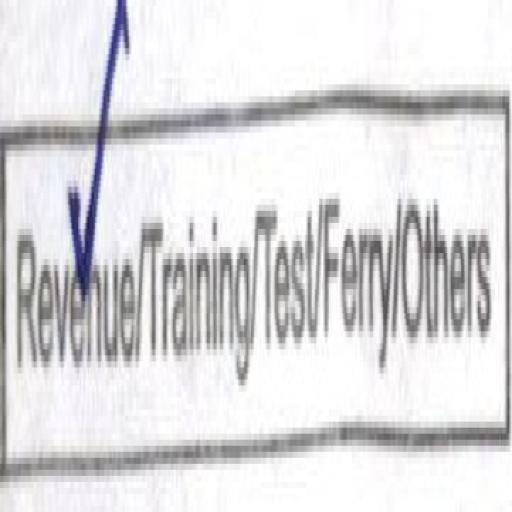check: (0, 0, 138, 499)
